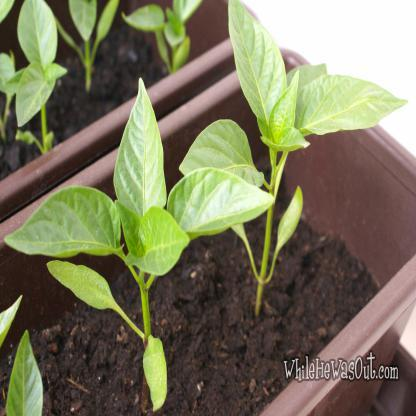Bell_pepper leaf spot: (112, 76, 170, 224), (5, 186, 121, 260), (226, 2, 290, 126), (167, 166, 276, 236), (178, 117, 268, 196), (302, 76, 411, 136), (131, 208, 189, 278)
